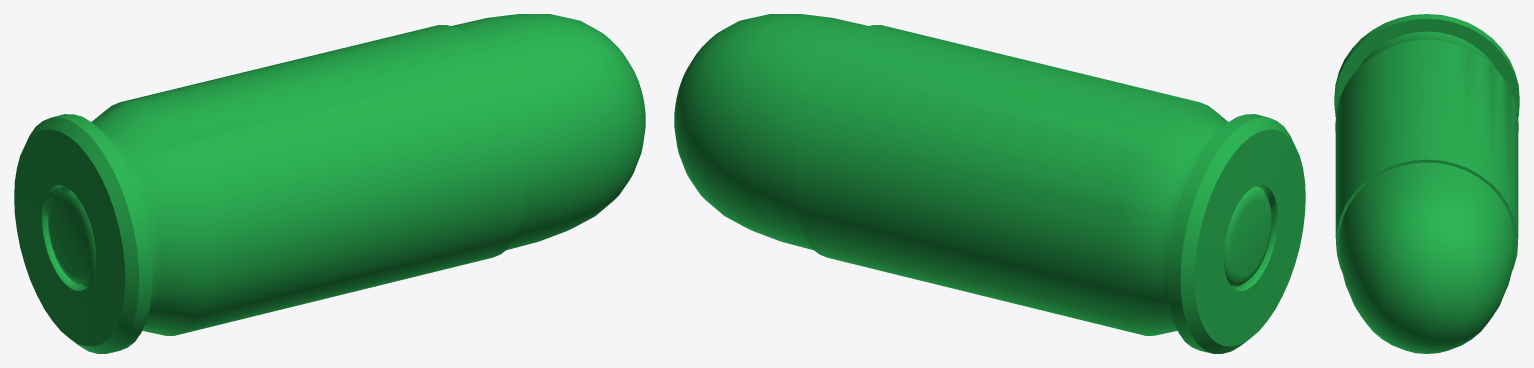
The model's file is Bullet.obj.
3 views of the same model, side by side, from view 1: azimuth 30°, elevation 25°; view 2: azimuth 150°, elevation 25°; view 3: azimuth 270°, elevation 25° (orthographic). The views are drawn at different scales.
Parts seen in each view (by area): view 1: uploads_files_2271929_Bullets_45_ACP; view 2: uploads_files_2271929_Bullets_45_ACP; view 3: uploads_files_2271929_Bullets_45_ACP.
Part boxes in pixels (x1=…): uploads_files_2271929_Bullets_45_ACP: x1=14, y1=14, x2=645, y2=353; uploads_files_2271929_Bullets_45_ACP: x1=674, y1=14, x2=1305, y2=353; uploads_files_2271929_Bullets_45_ACP: x1=1334, y1=14, x2=1519, y2=353.
Bounding box in the file's own units: 3.24 × 1.21 × 1.21.
